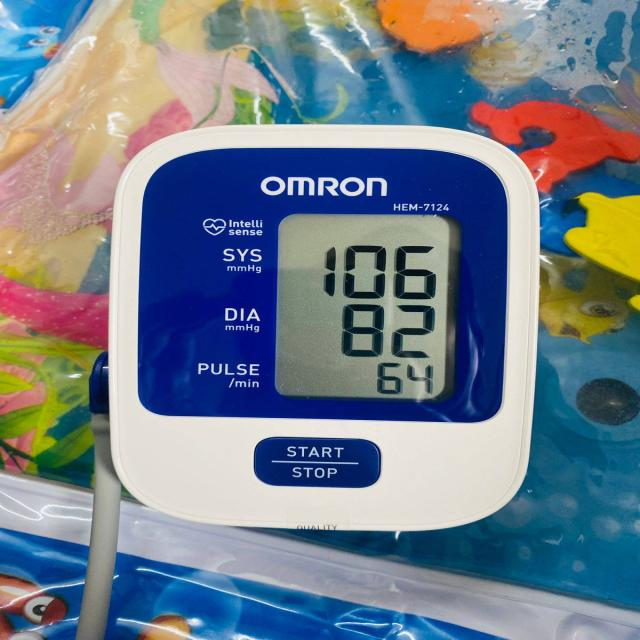bp: (102, 124, 542, 538)
